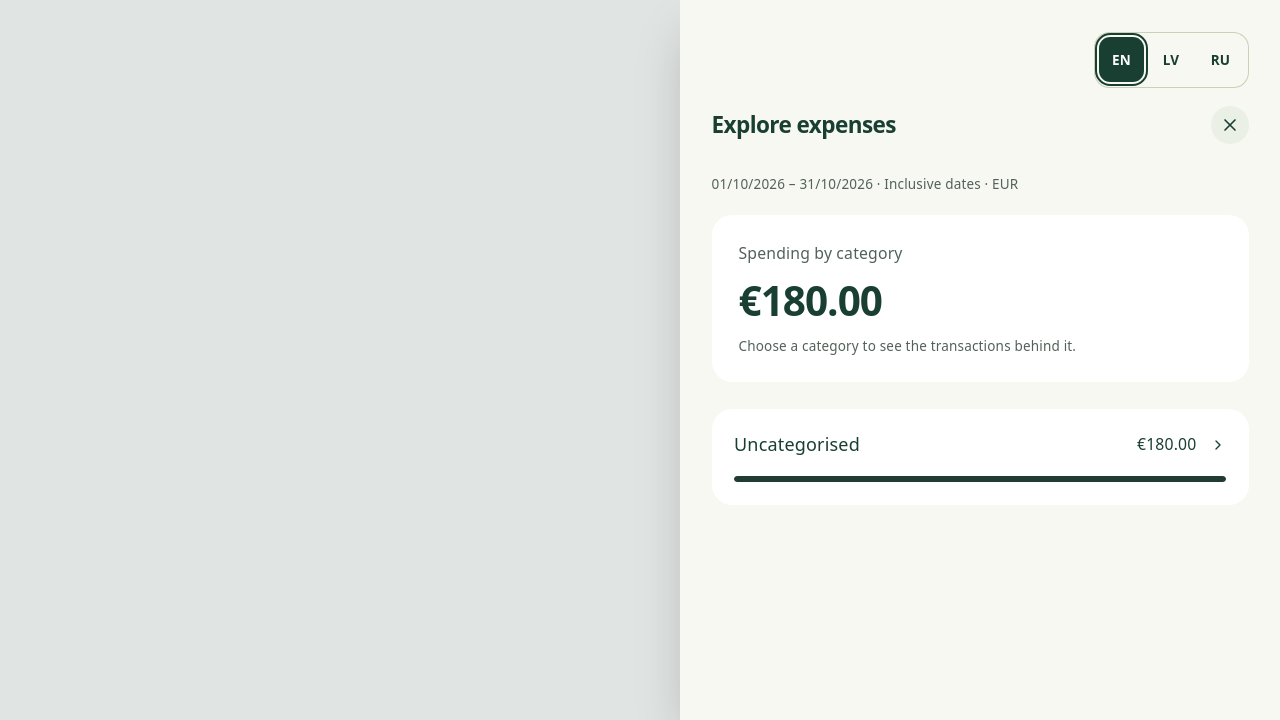
Test case: pages uncategorised expenses without inventing a category filter or leaking other categories
The image size is (1280, 720).
Step 1. Click the button "Uncategorised €180.00" → point(797, 444), box x1=712 y1=409 x2=1248 y2=505
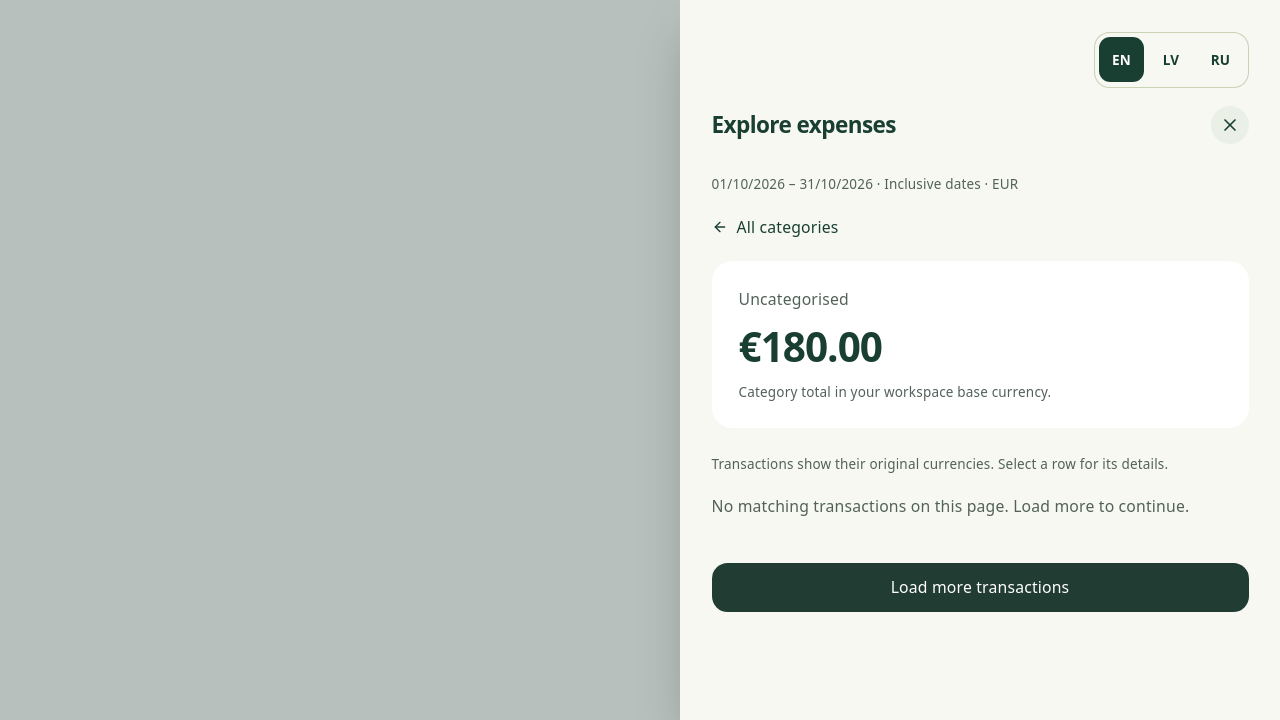
Expected: the text "No matching transactions on this page" is shown, x1=712 y1=495 x2=1189 y2=517
Step 2. Click the button "Load more transactions" → point(980, 587), box x1=712 y1=563 x2=1248 y2=612
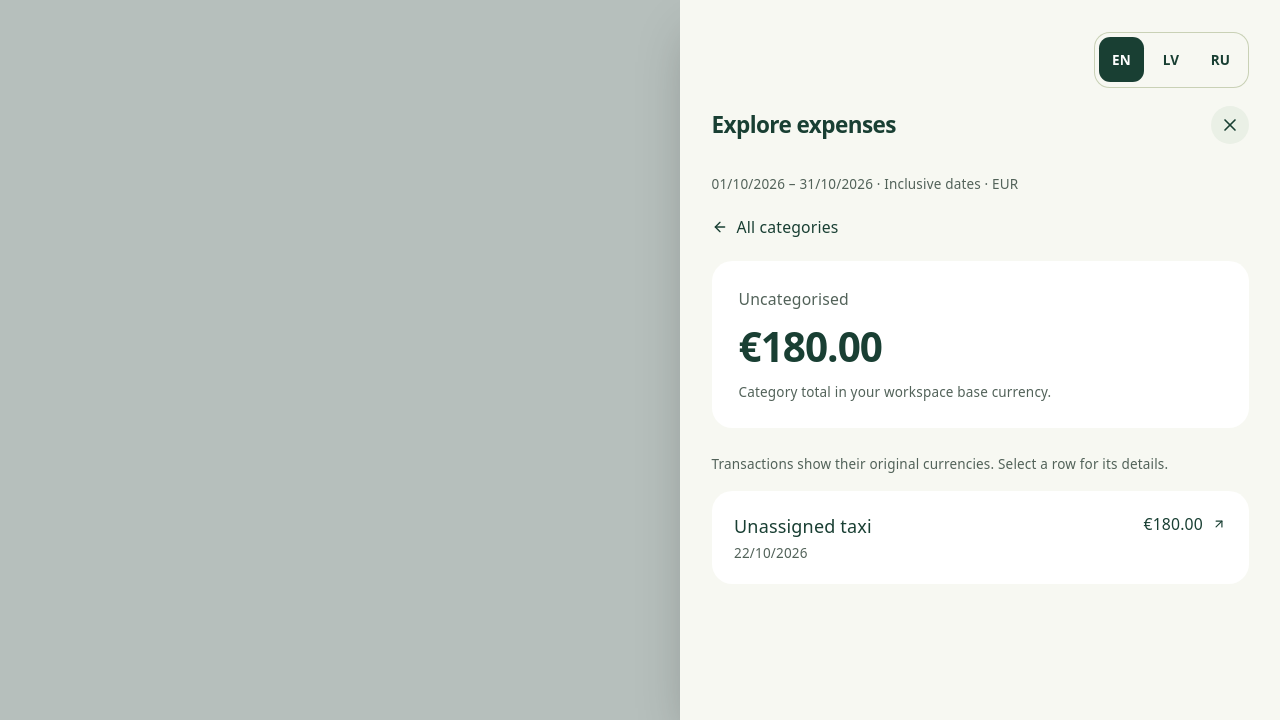
Expected: the text "Unassigned taxi" is shown, x1=734 y1=513 x2=872 y2=539
